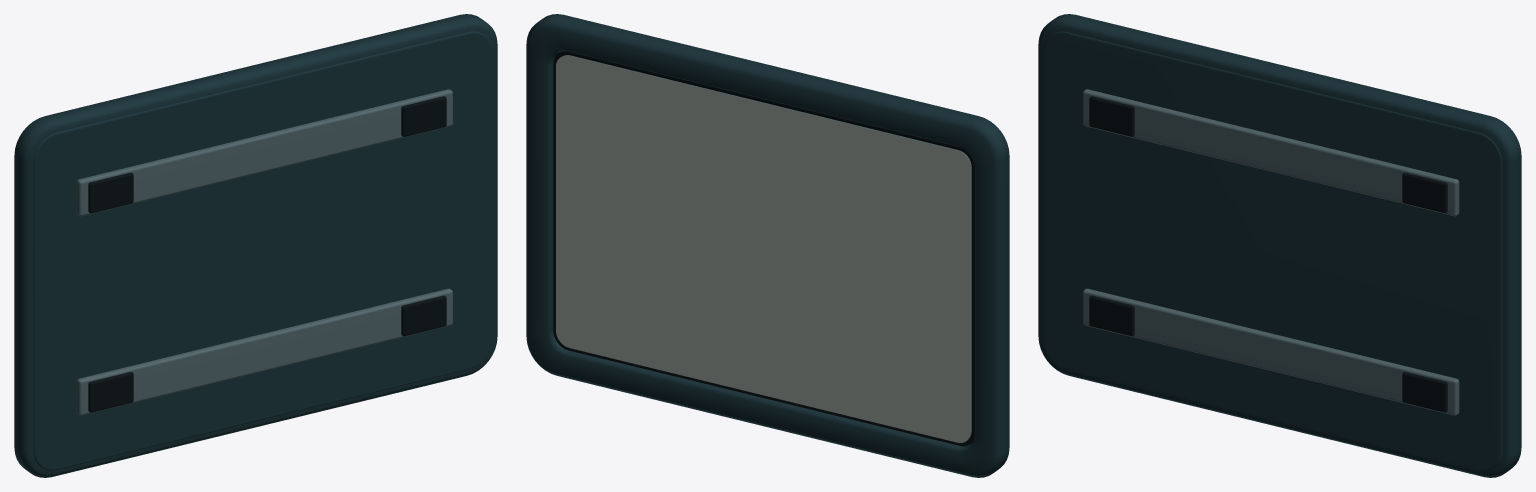
Rendered from reexport_city_sign_supports_01.glb.
The picture shows the model from 3 angles, left to right: view 1: azimuth 30°, elevation 25°; view 2: azimuth 150°, elevation 25°; view 3: azimuth 330°, elevation 25°; orthographic projection.
Visible parts, largest first — view 1: rear_shell, rounded_frame, mount_rail_upper, mount_rail_lower, wall_pad_lower_right, wall_pad_upper_left, wall_pad_upper_right, wall_pad_lower_left; view 2: artwork_carrier, rounded_frame, face_gasket; view 3: rear_shell, rounded_frame, mount_rail_upper, mount_rail_lower, wall_pad_lower_left, wall_pad_upper_left, wall_pad_upper_right, wall_pad_lower_right.
Boxes of the visible parts, left/top/right/bottom form: rear_shell: left=33, top=31, right=491, bottom=470; rounded_frame: left=14, top=14, right=497, bottom=477; mount_rail_upper: left=76, top=89, right=452, bottom=216; mount_rail_lower: left=76, top=288, right=452, bottom=415; wall_pad_lower_right: left=401, top=295, right=446, bottom=336; wall_pad_upper_left: left=88, top=172, right=133, bottom=213; wall_pad_upper_right: left=401, top=96, right=446, bottom=136; wall_pad_lower_left: left=88, top=372, right=133, bottom=412; artwork_carrier: left=556, top=55, right=971, bottom=442; rounded_frame: left=526, top=14, right=1009, bottom=477; face_gasket: left=553, top=51, right=974, bottom=446; rear_shell: left=1044, top=31, right=1502, bottom=470; rounded_frame: left=1038, top=14, right=1521, bottom=477; mount_rail_upper: left=1083, top=89, right=1459, bottom=216; mount_rail_lower: left=1083, top=288, right=1459, bottom=415; wall_pad_lower_left: left=1089, top=295, right=1134, bottom=336; wall_pad_upper_left: left=1089, top=96, right=1134, bottom=136; wall_pad_upper_right: left=1402, top=172, right=1447, bottom=213; wall_pad_lower_right: left=1402, top=372, right=1447, bottom=412.
Size of the model in its own units: 1.4 by 1 by 0.1.
